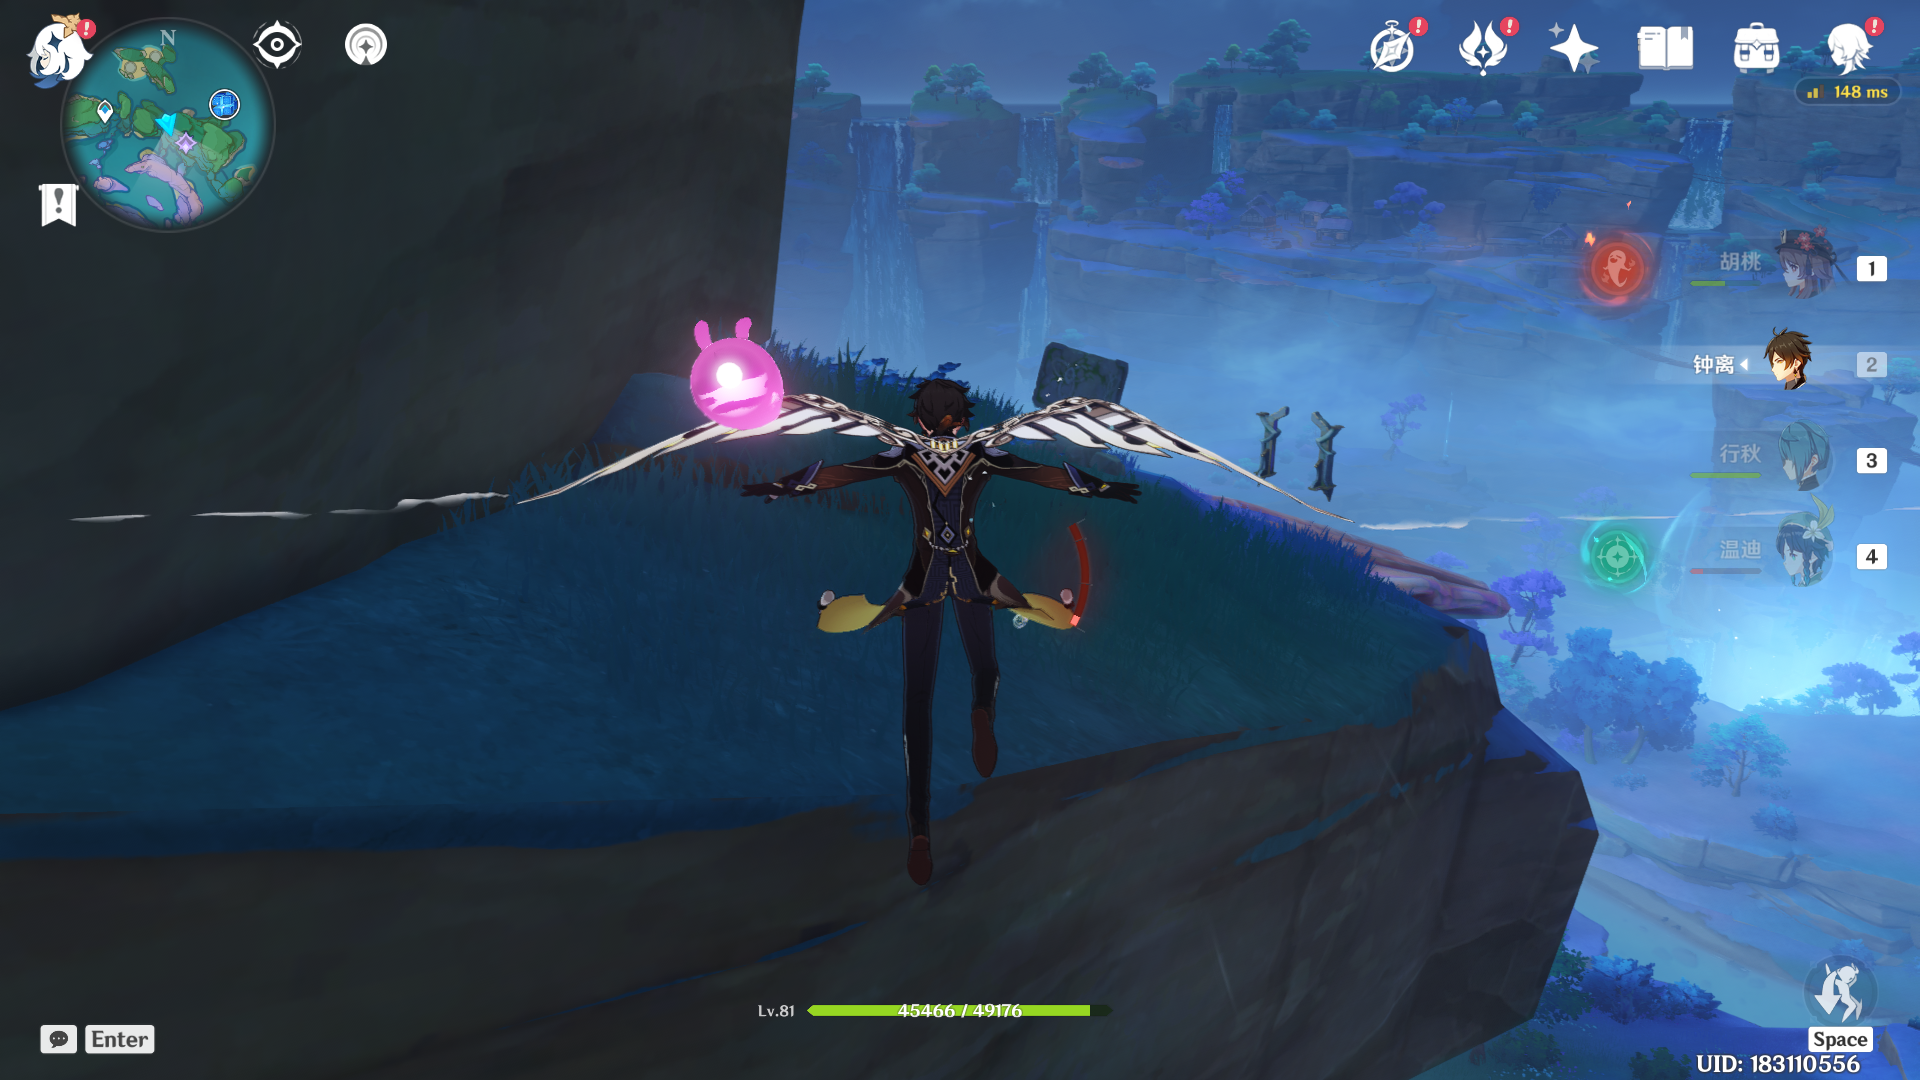character: (732, 287, 1138, 909)
